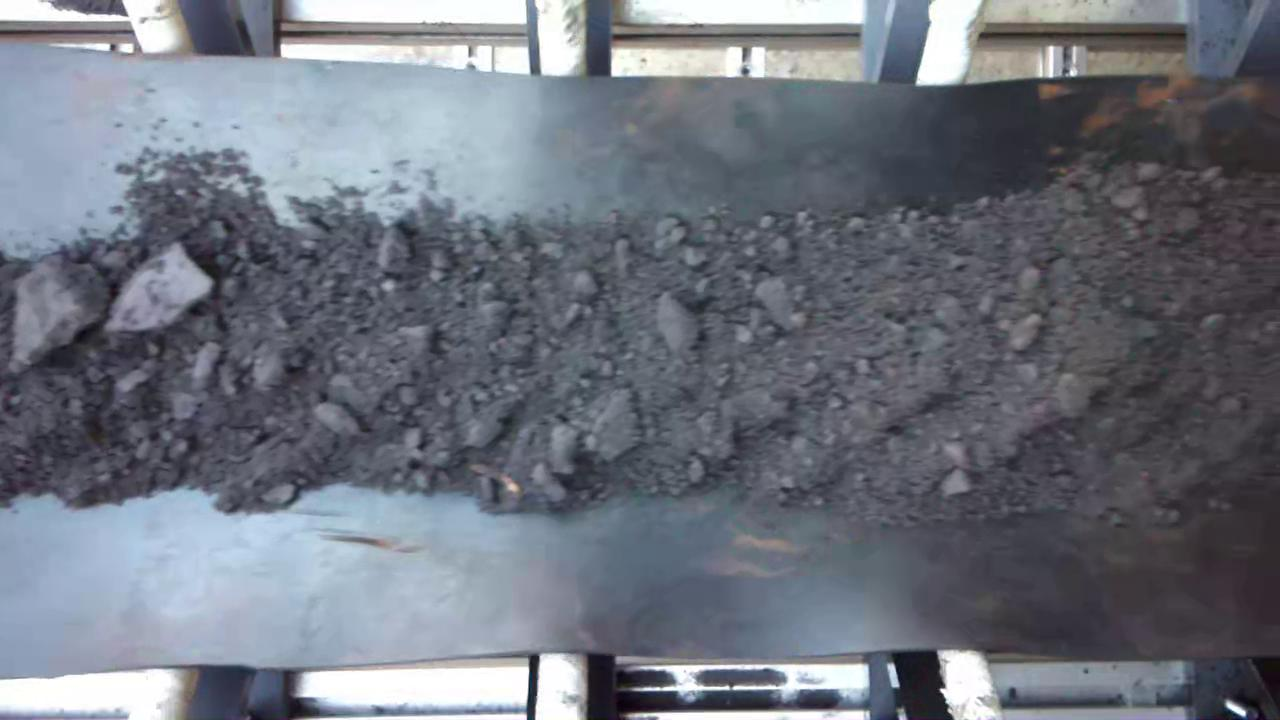conveyor: (1, 79, 1280, 651)
